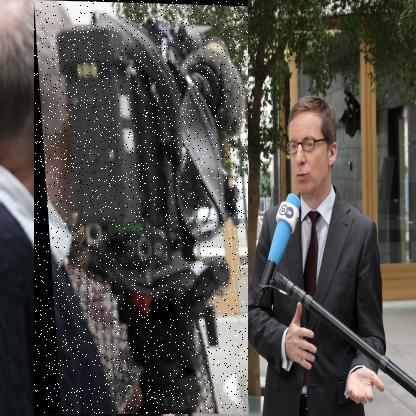Camera: (35, 1, 250, 416)
